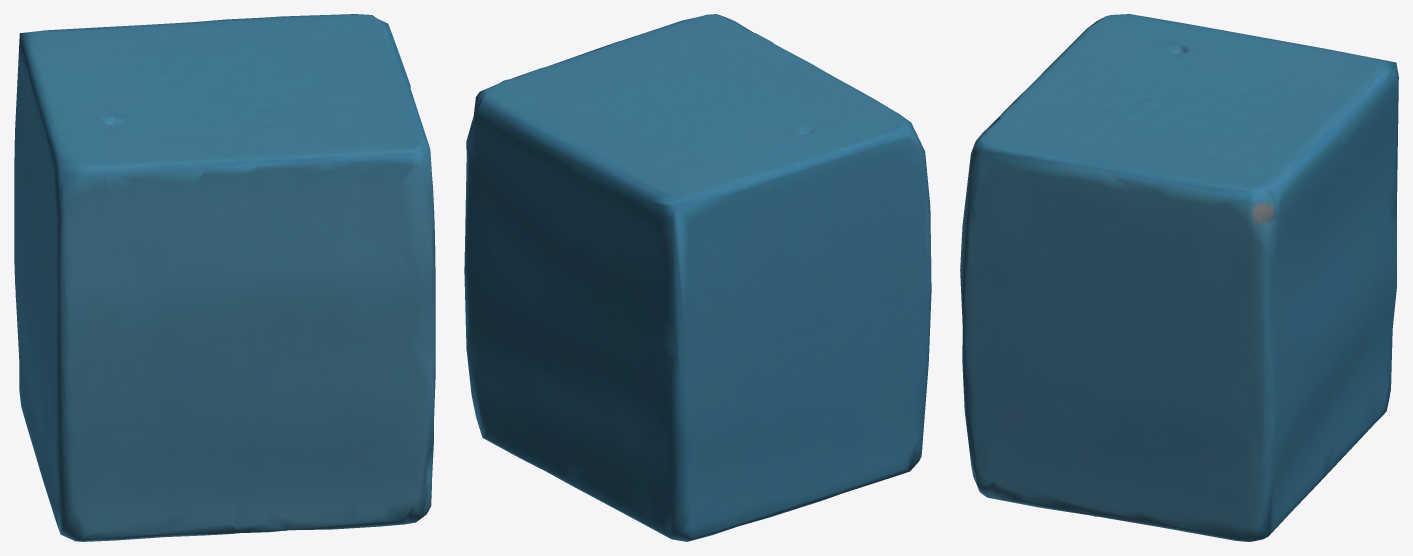
The model's file is block1_green.glb.
The picture shows the model from 3 angles, left to right: view 1: azimuth 30°, elevation 25°; view 2: azimuth 150°, elevation 25°; view 3: azimuth 270°, elevation 25°; orthographic projection. The views are drawn at different scales.
Visible parts, largest first — view 1: tripo_part_1; view 2: tripo_part_1; view 3: tripo_part_1.
Boxes of the visible parts, left/top/right/bottom form: tripo_part_1: left=14, top=14, right=435, bottom=541; tripo_part_1: left=464, top=14, right=931, bottom=541; tripo_part_1: left=960, top=14, right=1398, bottom=541.
Bounding box in the file's own units: 0.2748 × 0.2375 × 0.2662.
Materials: 1 (1 with a texture image).
